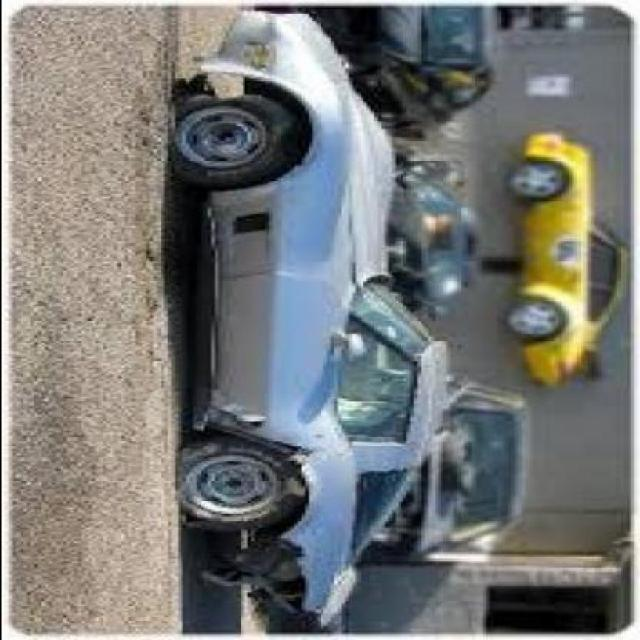damage: (185, 398, 351, 627)
